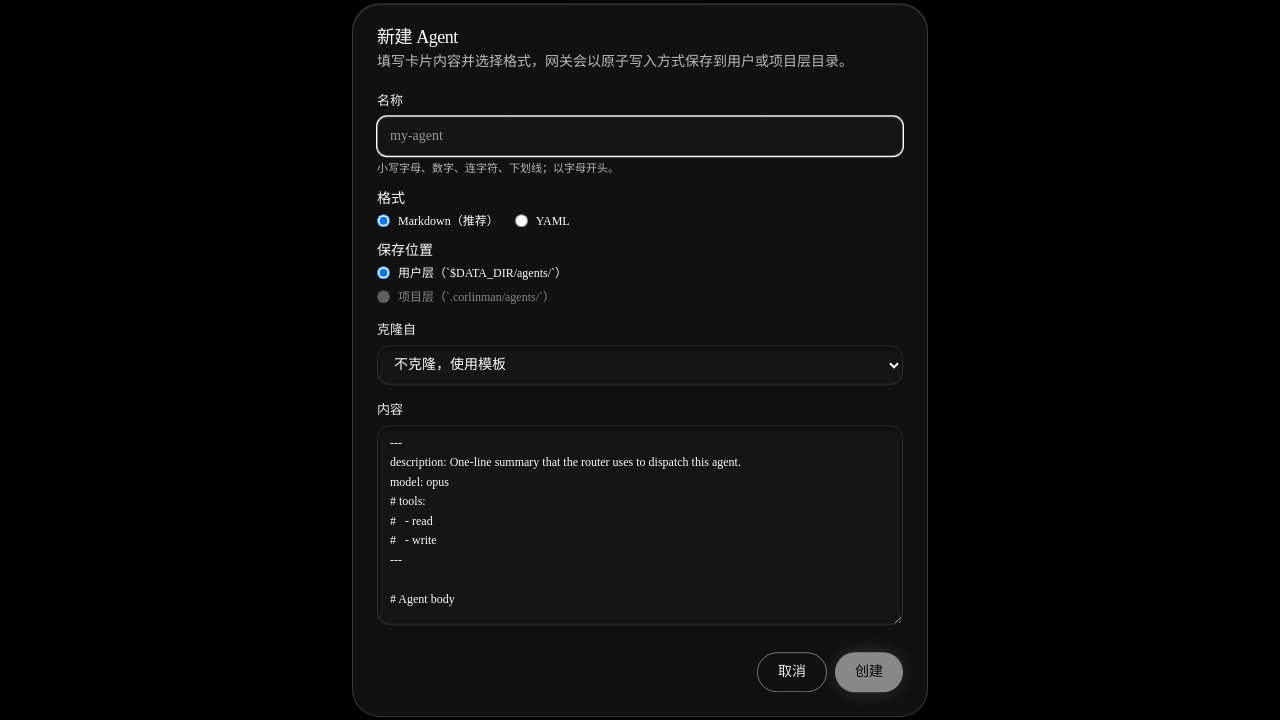
CreateAgentModal — submit gating › keeps the submit button disabled until the name regex matches
This screenshot has width=1280, height=720.
Check: the button with test id "create-agent-submit" is disabled, box [835,652,903,692]
# Uppercase → disabled (fails the regex).
Type "BAD" into the field with test id "agent-name" at {"x": 640, "y": 136}, box [377,116,903,156]
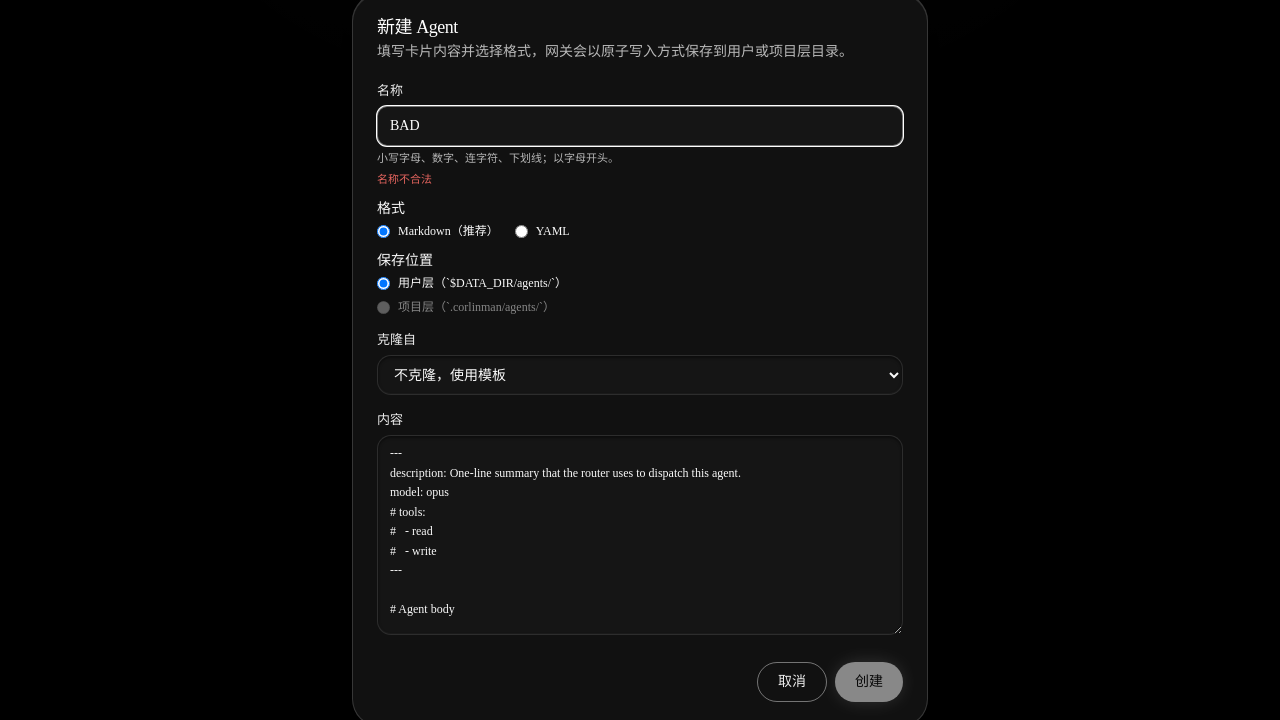
Check: the button with test id "create-agent-submit" is disabled, box [835,662,903,702]
# Starts with a digit → disabled.
Replace the text in the field with test id "agent-name" with "1bad" at {"x": 640, "y": 126}, box [377,106,903,146]
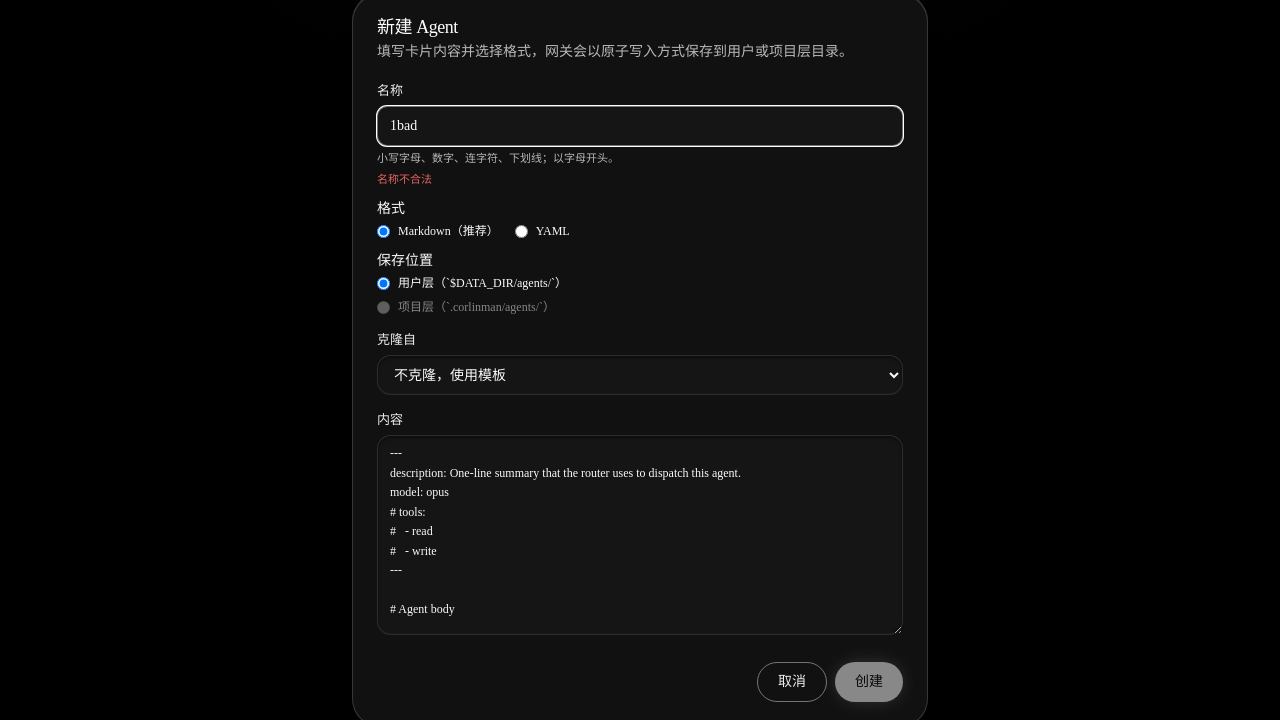
Check: the button with test id "create-agent-submit" is disabled, box [835,662,903,702]
# Valid → enabled.
Replace the text in the field with test id "agent-name" with "my-agent" at {"x": 640, "y": 126}, box [377,106,903,146]
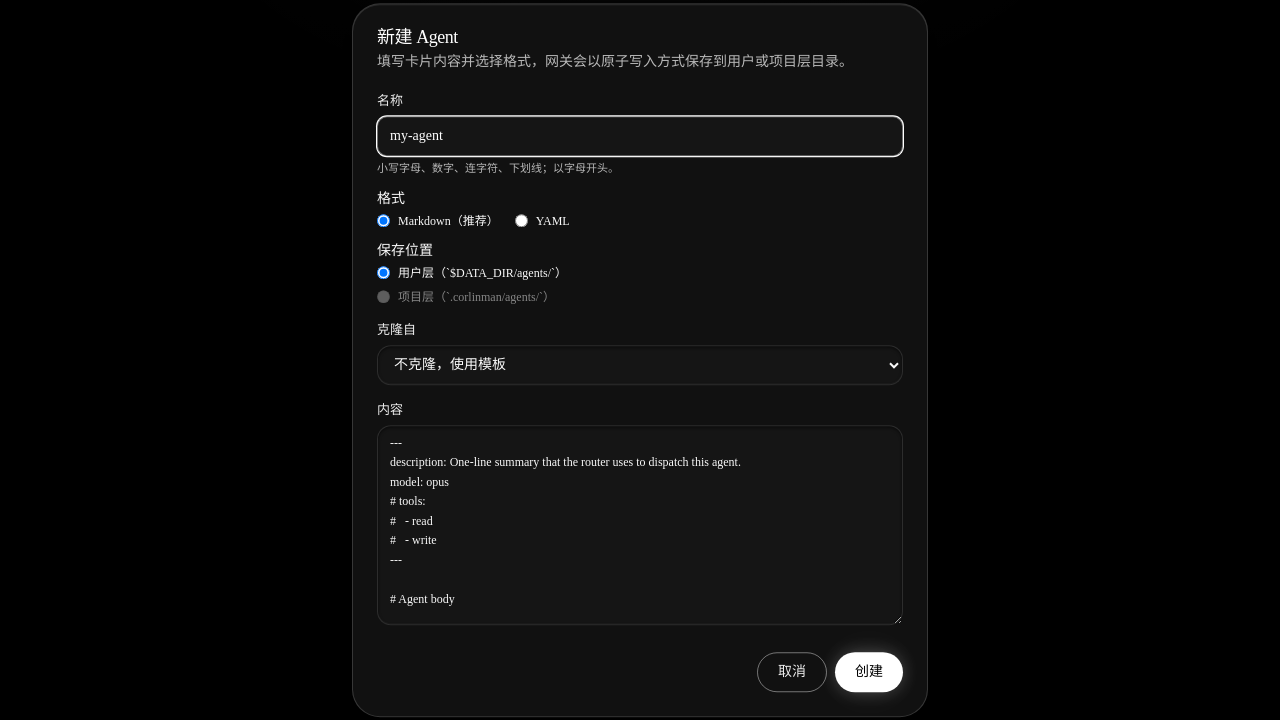
Check: the button with test id "create-agent-submit" is enabled, box [835,652,903,692]
